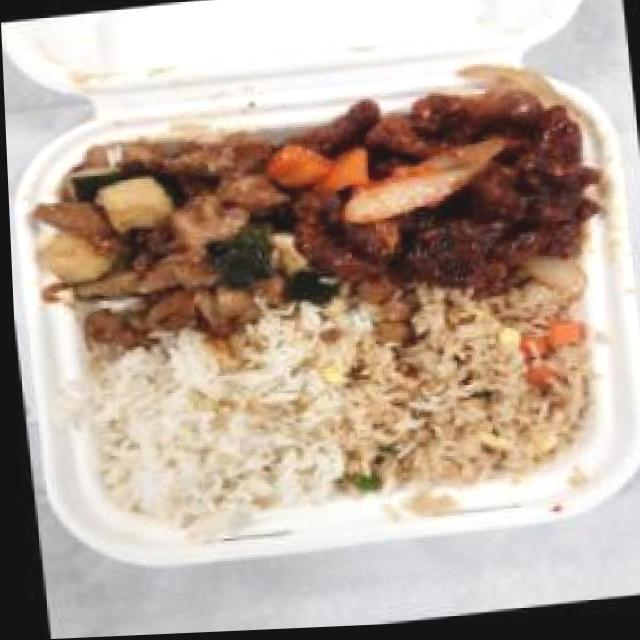Beijing Beef: (291, 79, 609, 318)
Fried Rice: (323, 271, 606, 499)
Kung Pao Chicken: (22, 117, 321, 360)
White Steamed Rice: (67, 318, 357, 538)
